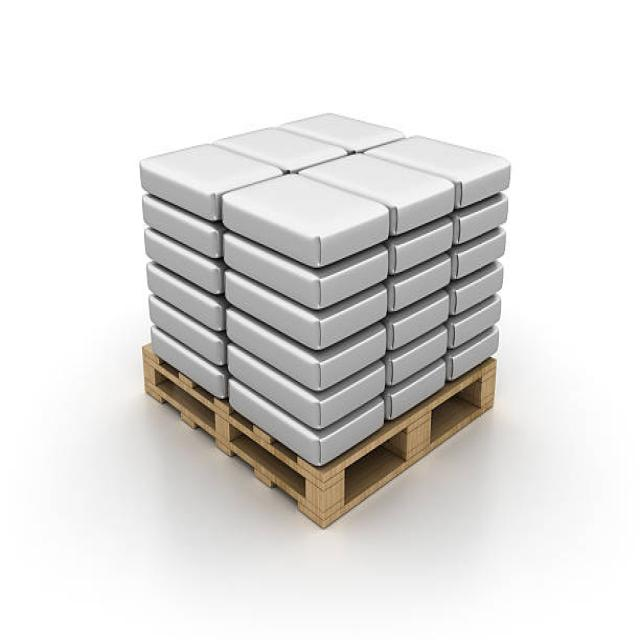Wooden-Pallets: (139, 345, 501, 531)
